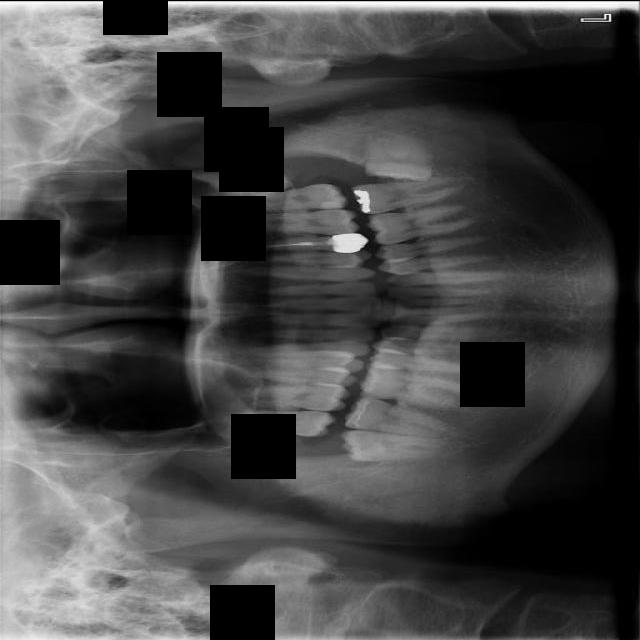52: (342, 391, 398, 436), (350, 174, 401, 220), (331, 232, 369, 252)
73: (262, 234, 333, 250), (596, 43, 606, 52)
BioHorizons Implant: (226, 181, 349, 213)
BioLife Implant: (211, 167, 295, 193)
Biomet 3i Implant: (363, 129, 437, 182)
Blue Sky Bio Implant: (350, 173, 464, 216)
Caries: (224, 409, 336, 436)
Implant: (344, 393, 453, 439)
Keystone Dental Implant: (338, 427, 439, 467)
